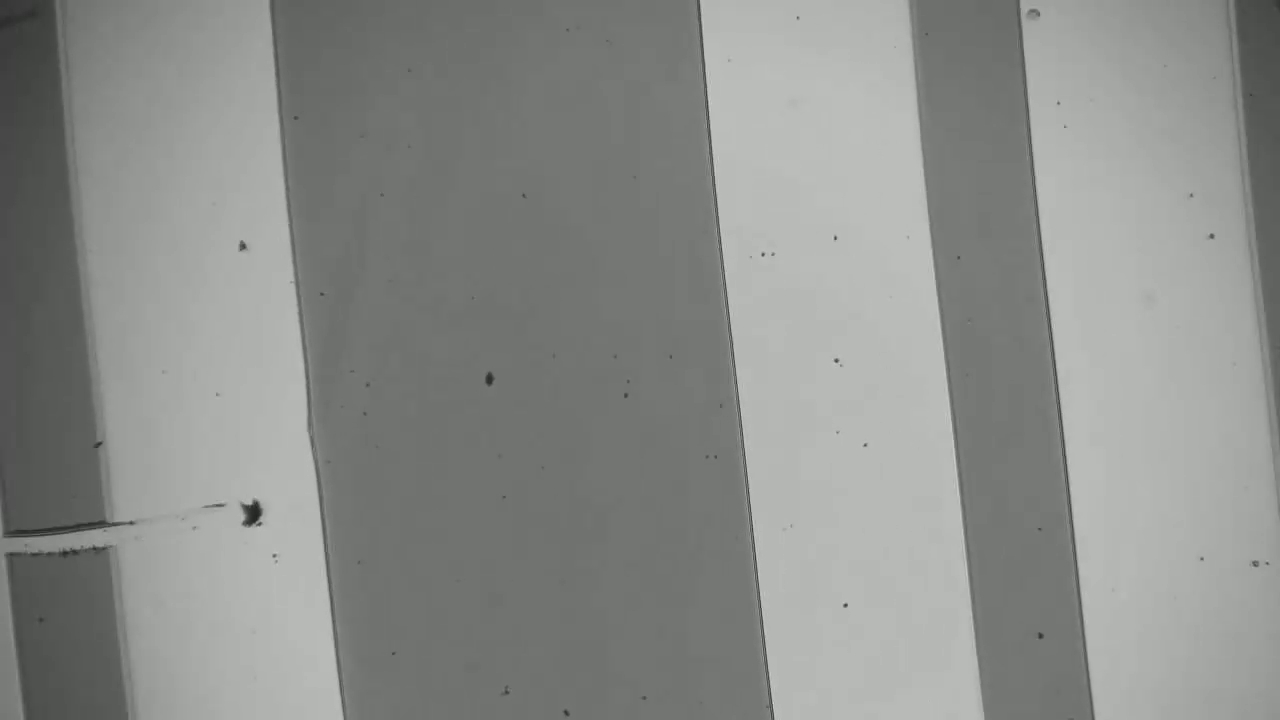Short_circuit: (1, 503, 178, 567)
